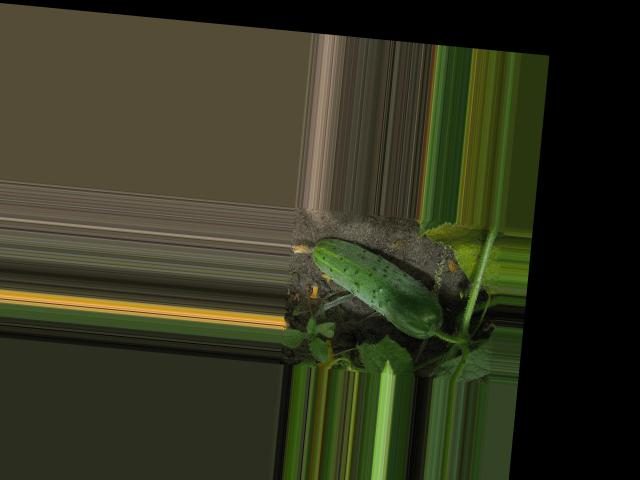cucumber: (283, 233, 449, 340)
